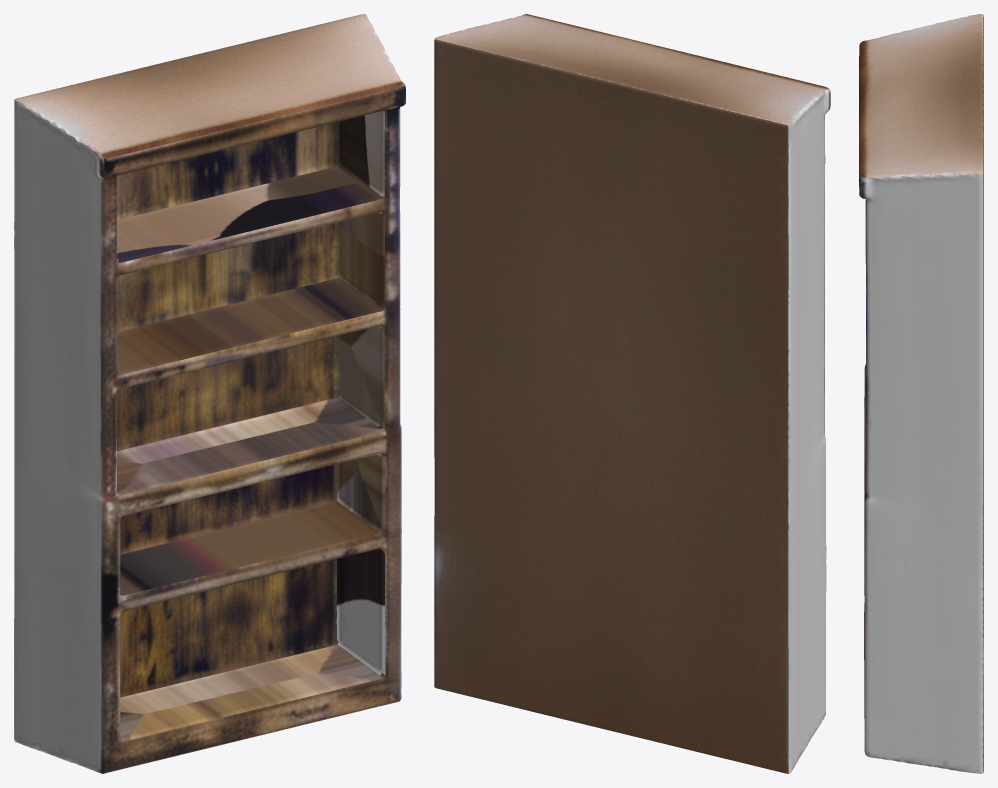
File: shelf__shelf#4.glb
3 views of the same model, side by side, from view 1: azimuth 30°, elevation 25°; view 2: azimuth 150°, elevation 25°; view 3: azimuth 270°, elevation 25° (orthographic). The views are drawn at different scales.
Visible parts, largest first — view 1: tmp40v18fc8.ply; view 2: tmp40v18fc8.ply; view 3: tmp40v18fc8.ply.
Part boxes in pixels (x1,y1,x2,y2): tmp40v18fc8.ply: [14, 14, 405, 773]; tmp40v18fc8.ply: [434, 14, 830, 773]; tmp40v18fc8.ply: [859, 14, 983, 773].
Size of the model in its own units: 1.14 by 1.99 by 0.3743.
Materials: 1 (1 with a texture image).
